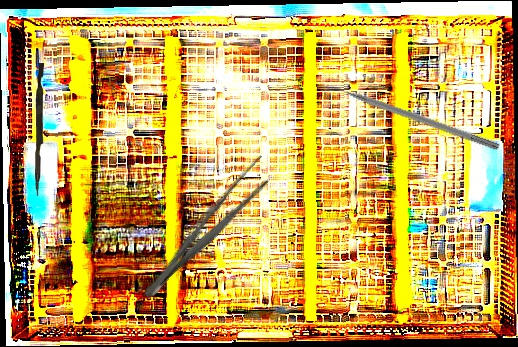Dressing Forceps: (135, 151, 280, 308)
Pusher: (319, 76, 501, 152), (35, 63, 44, 196)
